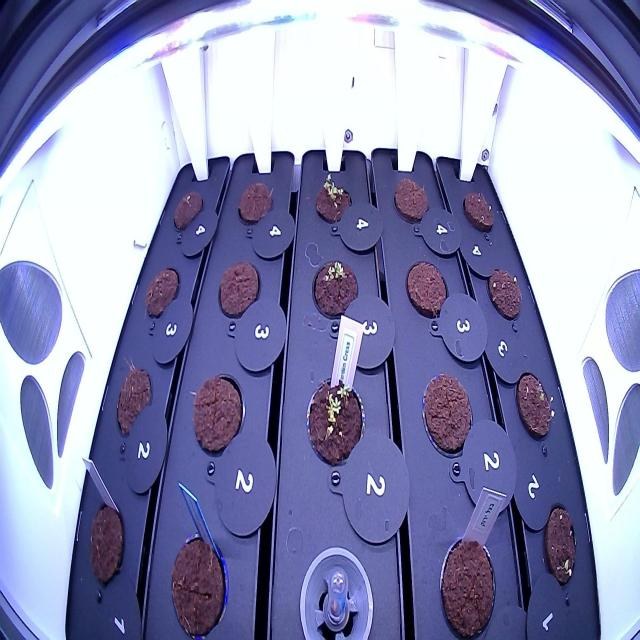germination: (300, 364, 369, 478), (536, 493, 584, 596), (510, 364, 562, 454), (309, 254, 362, 324), (310, 167, 355, 231)
pod: (432, 519, 503, 638), (164, 521, 232, 637), (416, 361, 480, 474), (187, 366, 254, 472), (80, 487, 130, 593), (399, 251, 455, 332), (210, 252, 266, 332), (108, 352, 155, 446), (139, 258, 186, 328), (484, 260, 527, 328), (390, 170, 436, 230), (231, 174, 279, 231), (460, 186, 501, 242), (170, 183, 206, 243)
